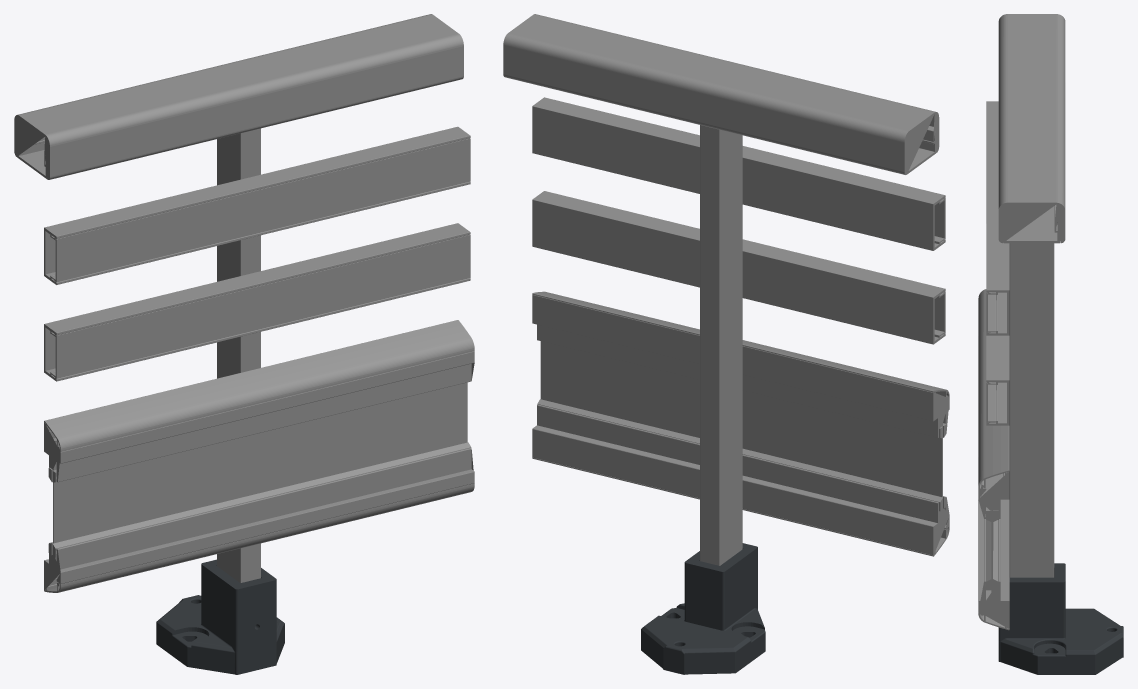
3 renders of one model, left to right at view 1: azimuth 30°, elevation 25°; view 2: azimuth 150°, elevation 25°; view 3: azimuth 270°, elevation 25°, orthographic. The views are drawn at different scales.
Visible parts, largest first — view 1: Extrude_8, Extrude_17, Extrude_3_2, Extrude_16, Extrude_30, Extrude_25, Extrude_26, SAPATA_DE_GRADE_5, Extrude_15, montante_5, Extrude_29, Cube (+1 smaller); view 2: Extrude_8, Extrude_17, Extrude_15, Extrude_3_2, Extrude_30, montante_5, Extrude_26, SAPATA_DE_GRADE_5, Extrude_25, Cube_1, Extrude_29; view 3: montante_5, Extrude_8, SAPATA_DE_GRADE_5, Extrude_15, Extrude_25, Extrude_30, Extrude_17, Extrude_7, Extrude_26, Cube_1, Cube, Extrude_16.
Boxes of the visible parts, x1,y1,x2,y2 form: Extrude_8: [14, 14, 463, 179]; Extrude_17: [44, 223, 470, 381]; Extrude_3_2: [53, 382, 467, 560]; Extrude_16: [51, 138, 470, 282]; Extrude_30: [44, 448, 474, 589]; Extrude_25: [44, 320, 474, 451]; Extrude_26: [44, 351, 474, 482]; SAPATA_DE_GRADE_5: [156, 559, 284, 674]; Extrude_15: [44, 126, 470, 284]; montante_5: [217, 128, 260, 582]; Extrude_29: [44, 483, 474, 592]; Cube: [52, 442, 471, 557]; Extrude_8: [503, 14, 939, 174]; Extrude_17: [532, 191, 945, 344]; Extrude_15: [532, 97, 945, 250]; Extrude_3_2: [540, 341, 942, 497]; Extrude_30: [532, 404, 949, 555]; montante_5: [700, 125, 742, 565]; Extrude_26: [532, 294, 949, 437]; SAPATA_DE_GRADE_5: [641, 543, 765, 674]; Extrude_25: [532, 291, 949, 399]; Cube_1: [537, 399, 942, 511]; Extrude_29: [532, 457, 949, 556]; montante_5: [1009, 243, 1054, 577]; Extrude_8: [998, 14, 1065, 243]; SAPATA_DE_GRADE_5: [998, 563, 1123, 674]; Extrude_15: [986, 101, 1009, 335]; Extrude_25: [978, 289, 1009, 488]; Extrude_30: [978, 499, 1009, 628]; Extrude_17: [986, 335, 1009, 425]; Extrude_7: [1003, 206, 1060, 243]; Extrude_26: [978, 472, 1009, 518]; Cube_1: [993, 519, 998, 590]; Cube: [986, 520, 991, 590]; Extrude_16: [986, 292, 995, 332].
Size of the model in its own units: 402 by 538 by 130.
2 materials, 1 textured.
